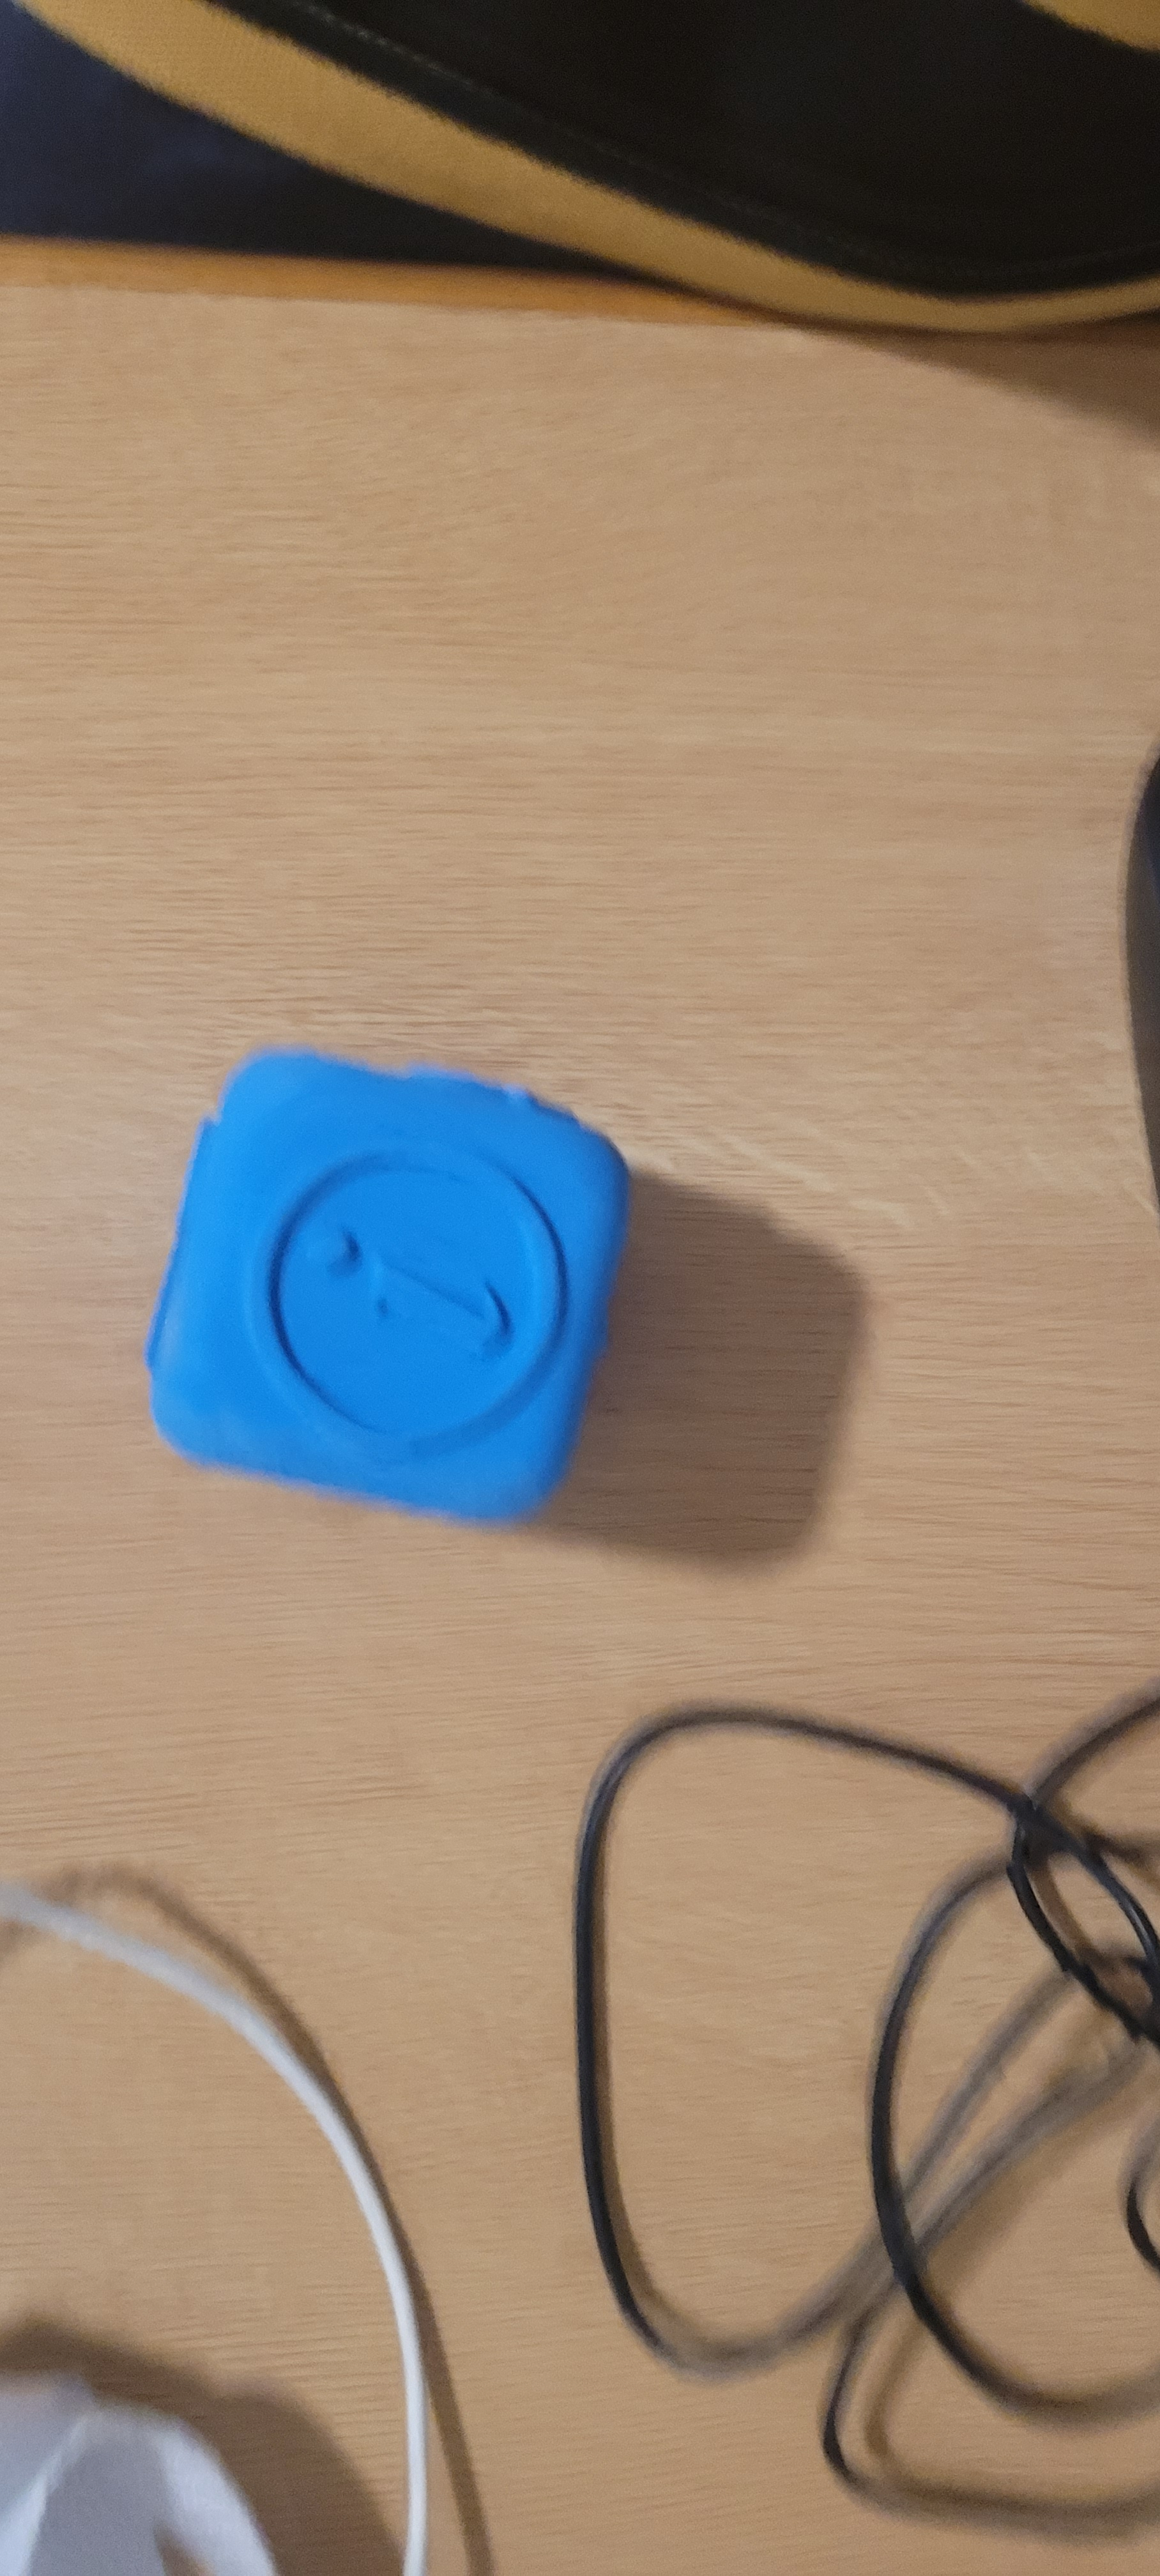Info: (238, 1102, 582, 1483)
